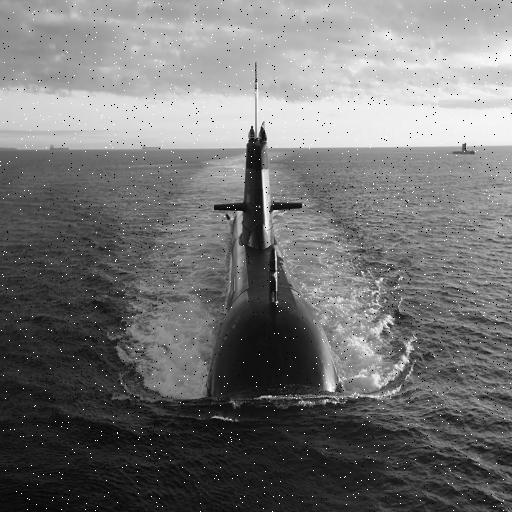submarine: (201, 59, 344, 412)
